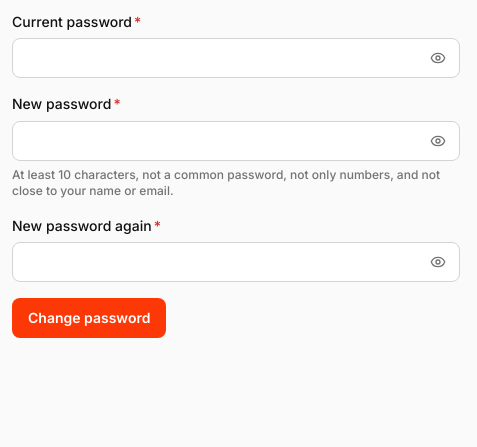
PasswordChangeForm › puts the server's refusal beside the field it is about
In the password field with id "current-password": (236, 58) [12,38,460,78], type "old-password-1"
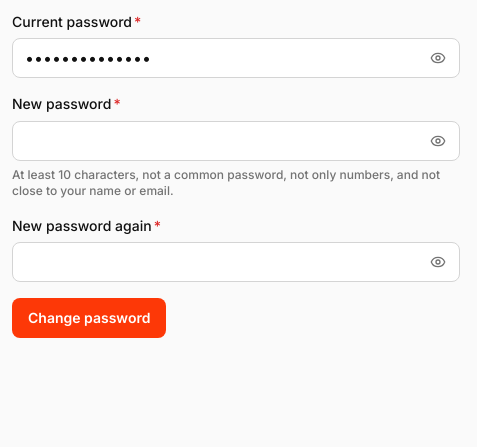
In the password field with id "new-password": (236, 141) [12,121,460,161], type "password1234"
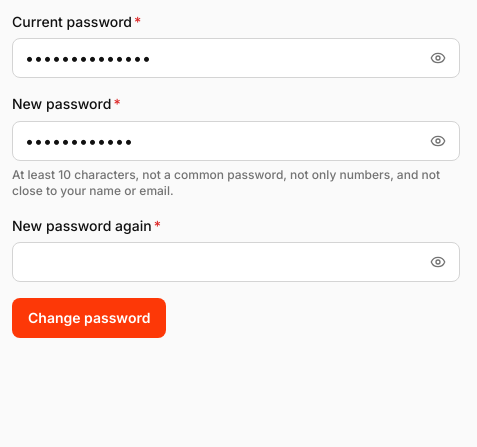
In the password field with id "confirm-password": (236, 262) [12,242,460,282], type "password1234"
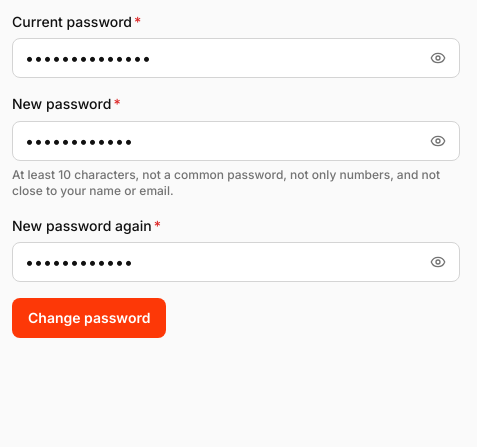
Click the button "Change password": (89, 318) [12,298,166,338]
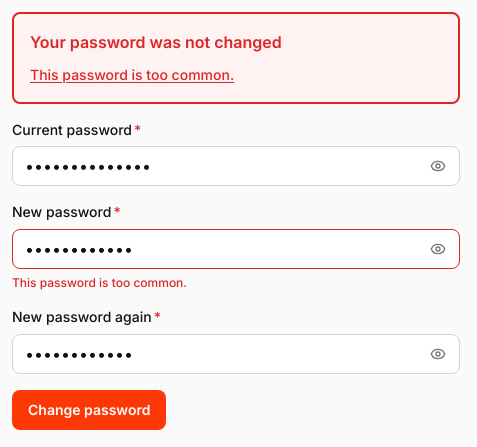
Expected: the link "This password is too common." is shown, [30,66,234,83]
